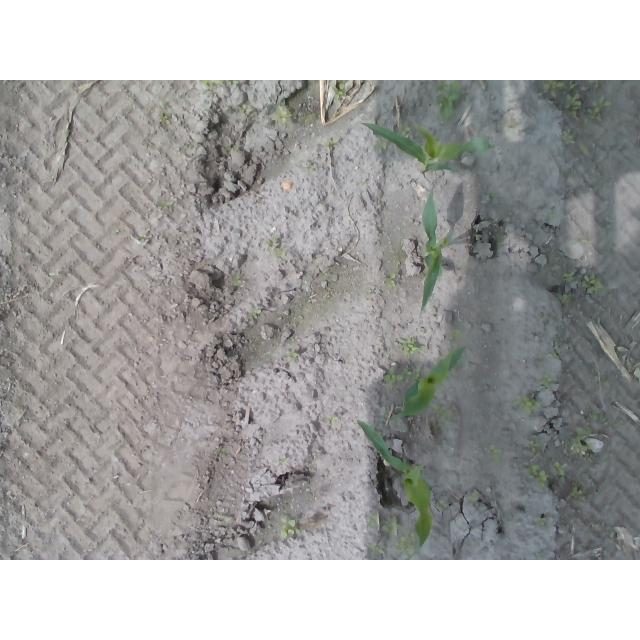Maize: (357, 419, 435, 550), (362, 121, 479, 177), (389, 345, 468, 417), (418, 187, 446, 310)
Weeds: (540, 81, 612, 124), (367, 512, 415, 557), (560, 272, 605, 305), (575, 409, 626, 434), (434, 81, 463, 123), (528, 461, 564, 492), (383, 366, 421, 382), (279, 515, 301, 539), (200, 81, 240, 92), (568, 434, 589, 454), (518, 395, 539, 414), (333, 80, 351, 101), (276, 105, 293, 125), (486, 442, 501, 464), (432, 401, 450, 419), (399, 338, 421, 352), (528, 434, 541, 456), (468, 138, 490, 149), (561, 128, 576, 144), (383, 272, 396, 289), (398, 120, 411, 136), (448, 330, 465, 342), (569, 485, 583, 498), (247, 309, 262, 320), (376, 140, 388, 153), (435, 501, 449, 512), (240, 104, 255, 114), (160, 112, 170, 126), (467, 494, 477, 507), (288, 351, 299, 361), (535, 517, 545, 528), (544, 376, 553, 388), (233, 275, 241, 286), (137, 239, 145, 250), (488, 192, 497, 200)
